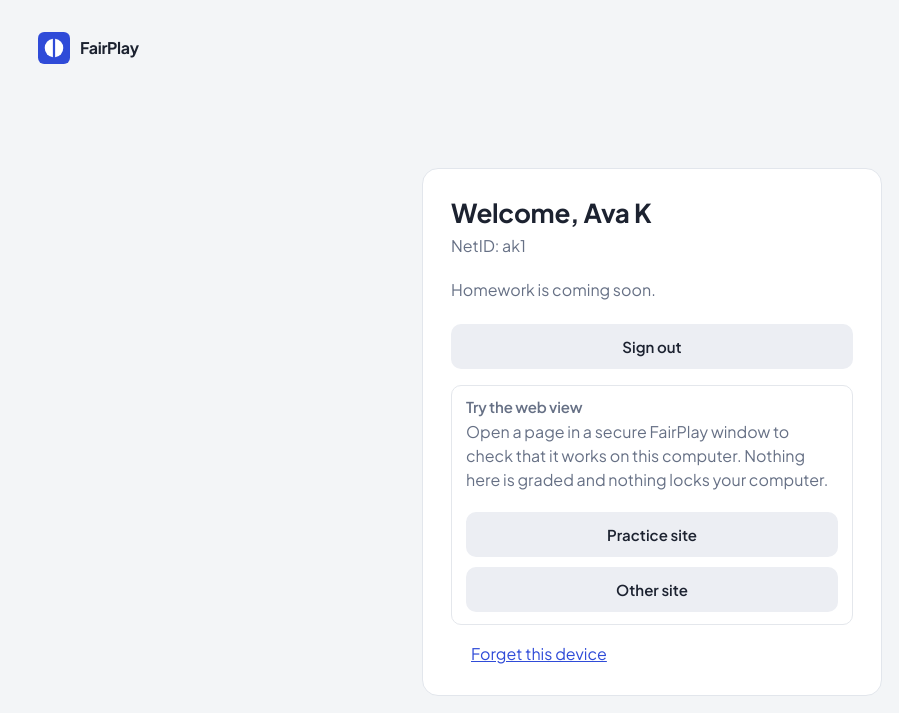
Test: web view test section › signs out on a 401 from open
Click the button "Practice site": (652, 535) top-left (466, 512), bottom-right (838, 558)
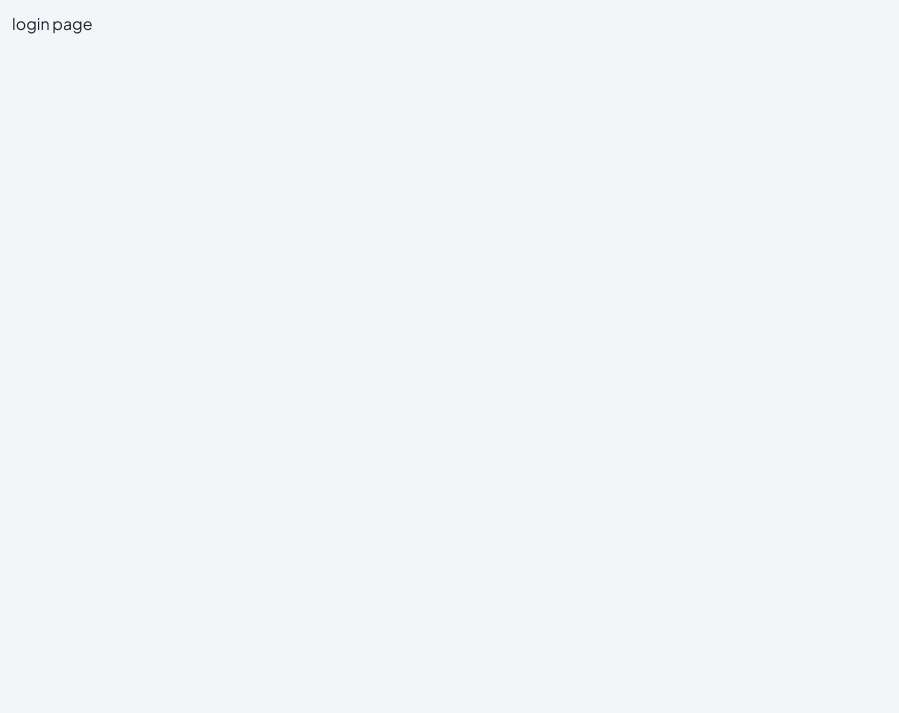
Check: the text "login page" is shown, box top-left (12, 13), bottom-right (92, 34)
